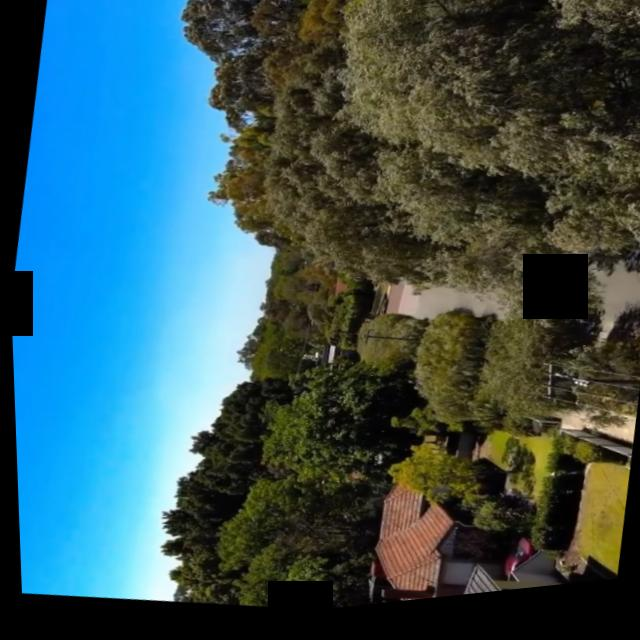Building: (355, 465, 626, 612)
Pole: (535, 374, 638, 415), (356, 335, 413, 358)
Tree: (255, 140, 583, 356), (329, 0, 640, 214), (163, 0, 378, 179), (403, 302, 599, 454), (208, 475, 370, 624), (262, 364, 422, 507), (529, 172, 640, 285), (377, 439, 511, 530), (339, 314, 421, 390)
